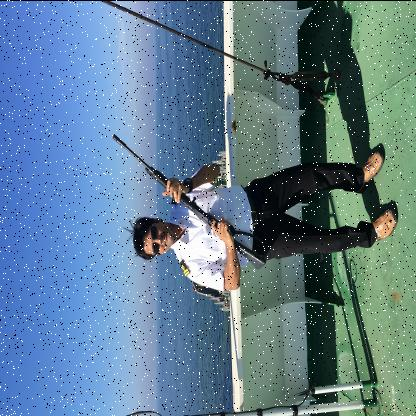rifle: (112, 132, 268, 270)
